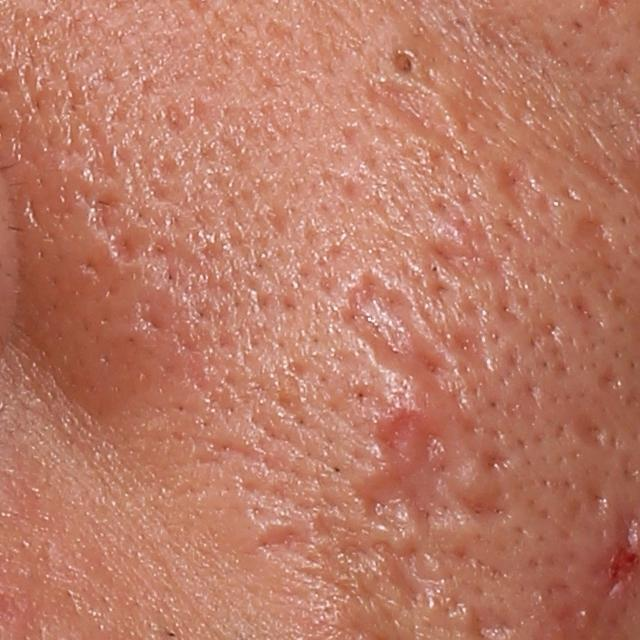atrophic_scar: (341, 277, 470, 403), (356, 414, 502, 520), (353, 74, 467, 153), (419, 185, 499, 260), (85, 190, 148, 262), (372, 539, 429, 612), (427, 236, 500, 281), (444, 319, 499, 374), (261, 528, 323, 563), (473, 439, 524, 481), (573, 212, 614, 250), (571, 419, 612, 455), (260, 12, 305, 43), (165, 100, 199, 136), (573, 294, 600, 339)
comedo: (385, 40, 421, 76)
